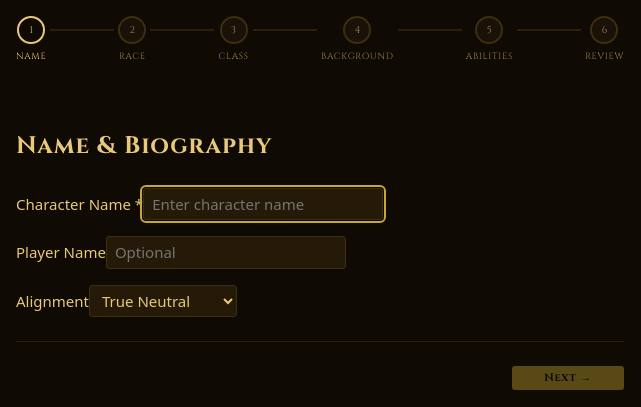
Test: Wizard › Next is disabled on step 1 when name is empty, enabled when filled
Expected: the button "Next →" is disabled, [512,366,624,390]
Type "Aria" into the field with placeholder "Enter character name" at x=263, y=204, box [143,188,383,220]
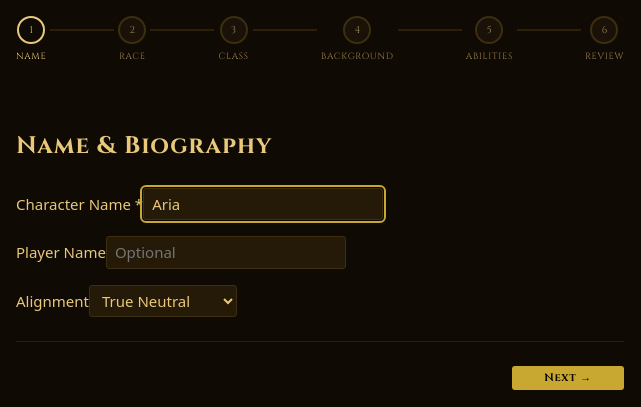
Expected: the button "Next →" is enabled, [512,366,624,390]
